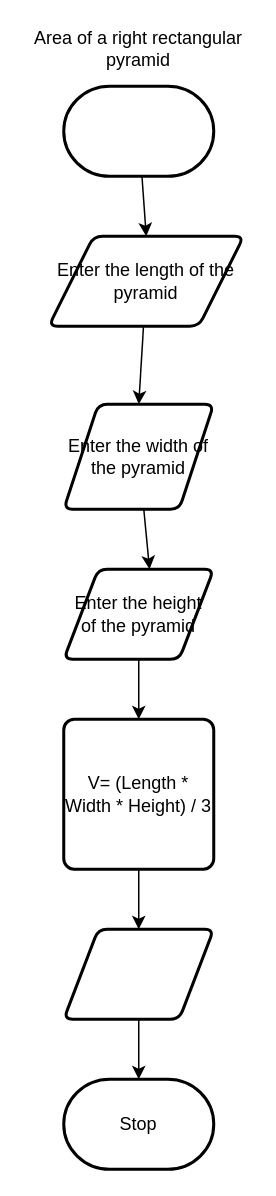
Some shapes in this 276 by 1196 pixel diagram are drawn without their labels. Each missing label, with the centre of its shape:
Show area: pixel 138 973
Start: pixel 138 130
